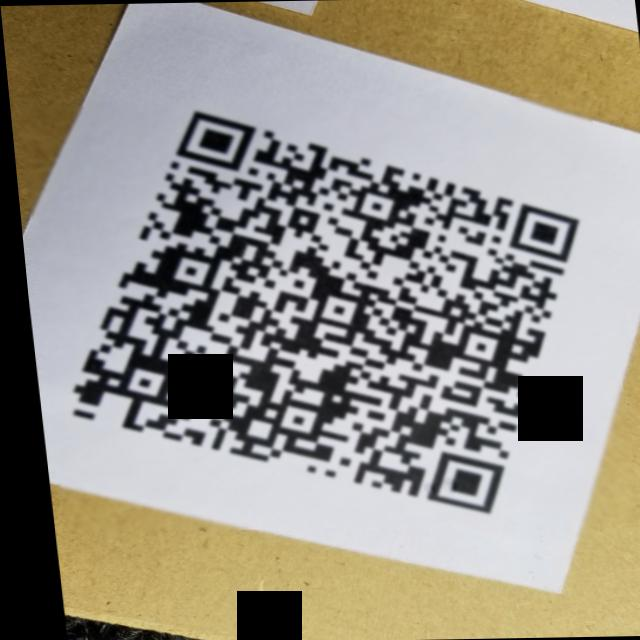QR_CODE: (15, 96, 628, 532)
